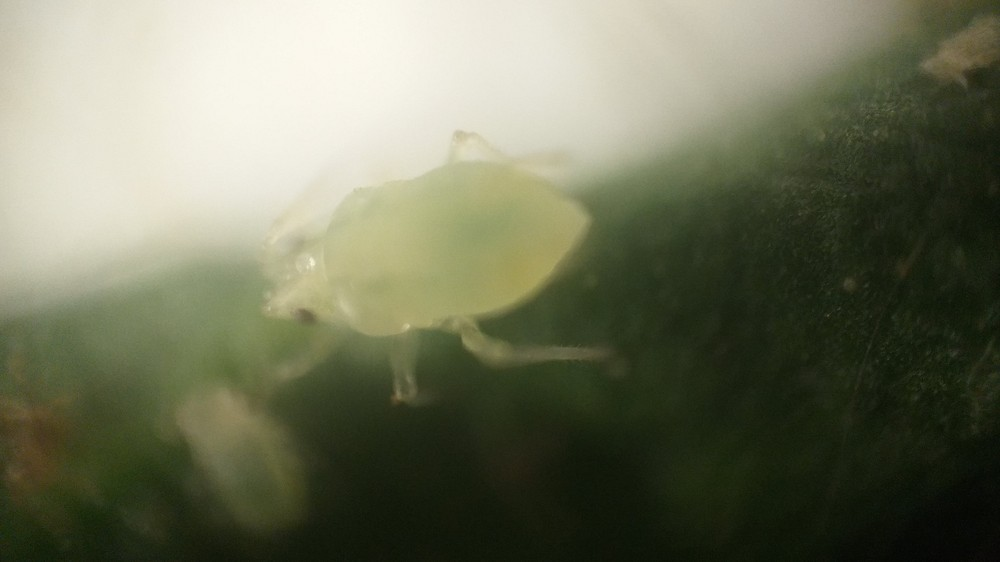Pulgon: (208, 109, 656, 420)
